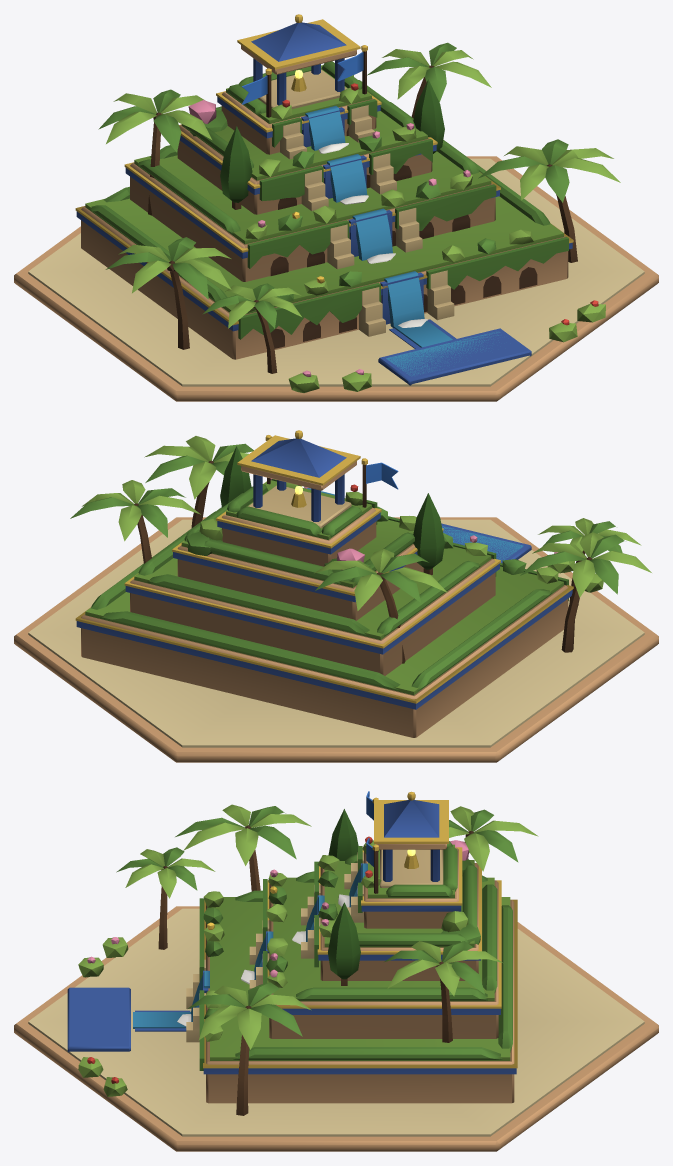
The model's file is w_hanging_gardens.glb.
3 renders of one model, top to bottom at view 1: azimuth 30°, elevation 25°; view 2: azimuth 150°, elevation 25°; view 3: azimuth 270°, elevation 25°, orthographic.
Parts seen in each view (by area): view 1: w_hanging_gardens; view 2: w_hanging_gardens; view 3: w_hanging_gardens.
Boxes of the visible parts, x1,y1,x2,y2 form: w_hanging_gardens: (14, 14, 658, 401); w_hanging_gardens: (14, 430, 658, 762); w_hanging_gardens: (14, 791, 658, 1151).
Size of the model in its own units: 1.47 by 0.677 by 1.63.
